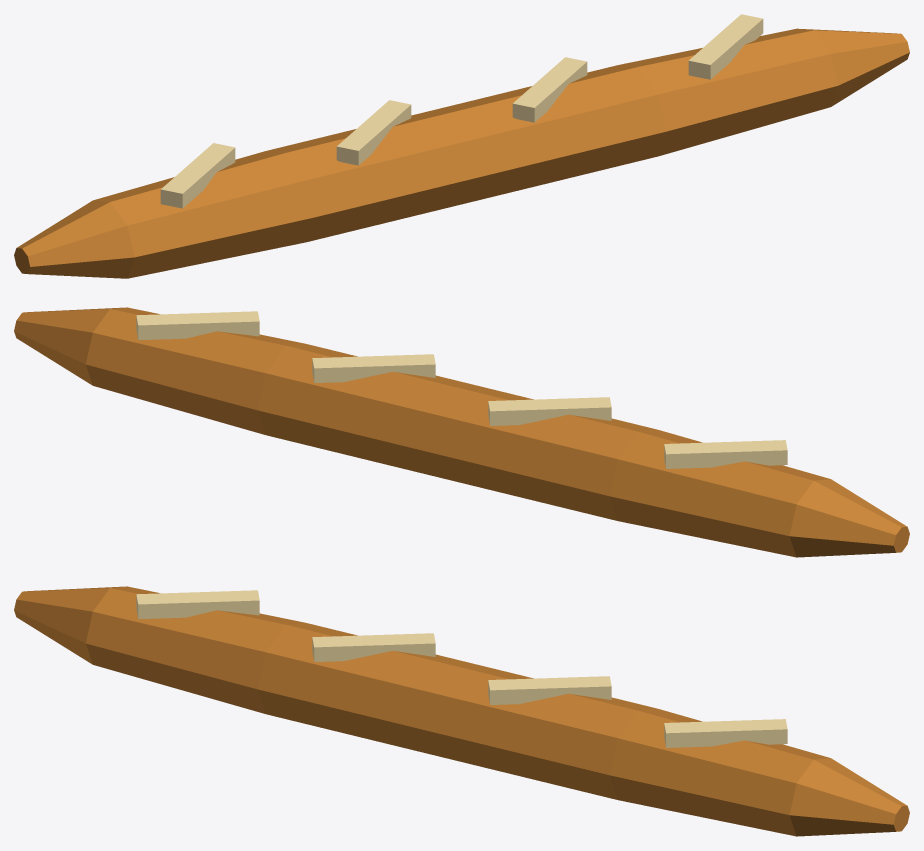
The model's file is baguette.glb.
3 views of the same model, one above another, from view 1: azimuth 30°, elevation 25°; view 2: azimuth 150°, elevation 25°; view 3: azimuth 330°, elevation 25° (orthographic).
Visible parts, largest first — view 1: baguette; view 2: baguette; view 3: baguette.
Boxes of the visible parts, box(x1,y1,x2,y2) form: baguette: box(14, 14, 909, 278); baguette: box(14, 307, 909, 557); baguette: box(14, 586, 909, 836).
Size of the model in its own units: 0.5 by 0.0508 by 0.056.
